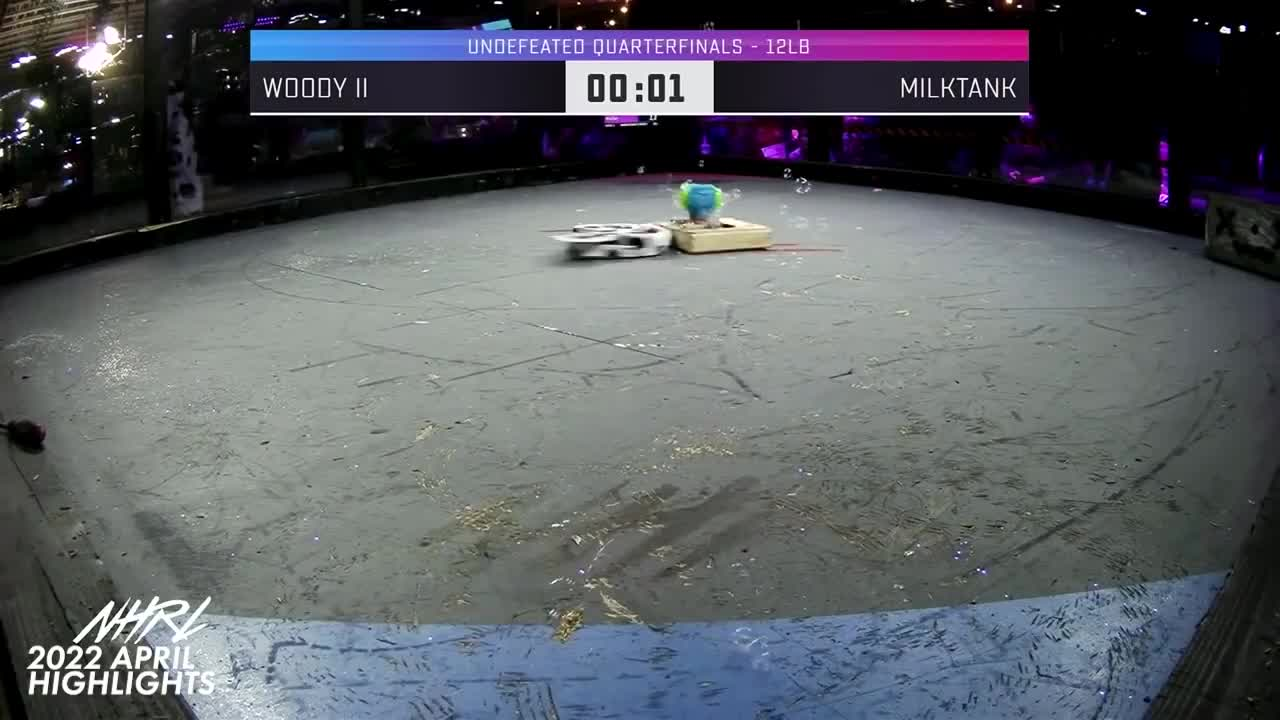combatbot: (671, 201, 773, 257), (547, 220, 673, 262)
debris: (1, 419, 47, 453)
housebot: (1201, 186, 1280, 287)
